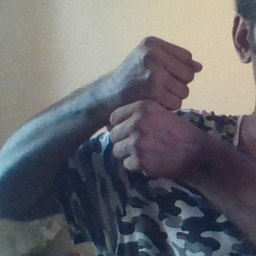G: (104, 31, 211, 185)
